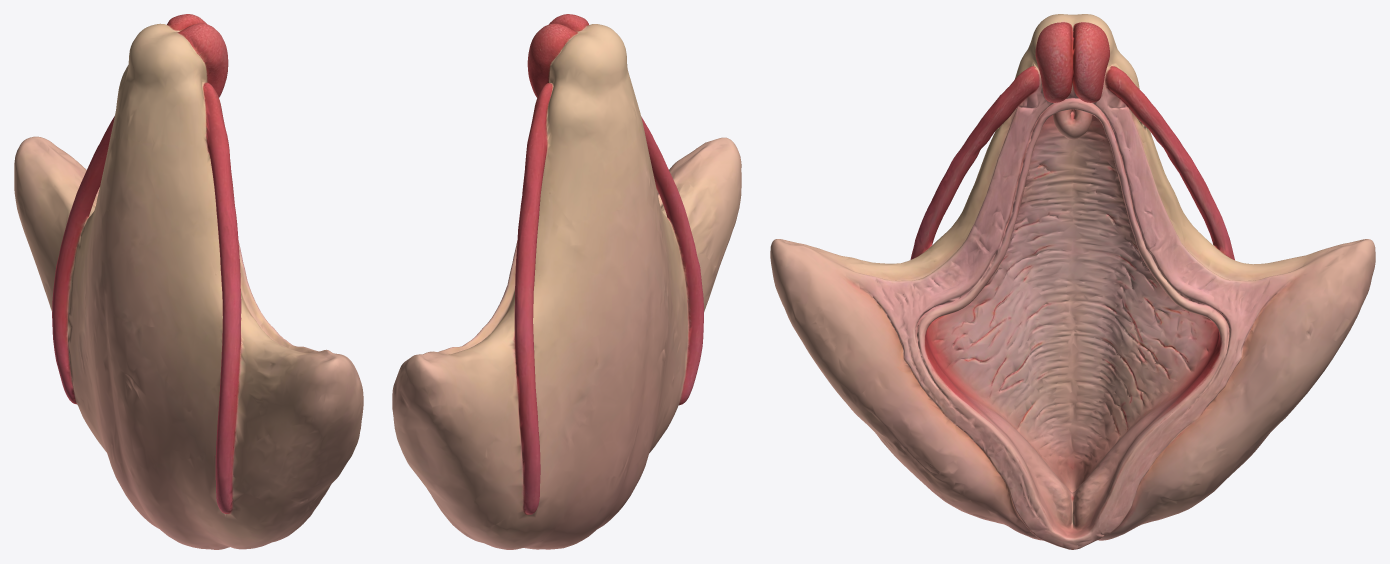
The model's file is vagina.glb.
3 views of the same model, side by side, from view 1: azimuth 30°, elevation 25°; view 2: azimuth 150°, elevation 25°; view 3: azimuth 270°, elevation 25° (orthographic). The views are drawn at different scales.
Visible parts, largest first — view 1: tripo_node_b2c6d1b5-1f37-4252-b54a-70e742d07a9e; view 2: tripo_node_b2c6d1b5-1f37-4252-b54a-70e742d07a9e; view 3: tripo_node_b2c6d1b5-1f37-4252-b54a-70e742d07a9e.
Part boxes in pixels (left/top/right/bottom): tripo_node_b2c6d1b5-1f37-4252-b54a-70e742d07a9e: left=14, top=14, right=363, bottom=549; tripo_node_b2c6d1b5-1f37-4252-b54a-70e742d07a9e: left=392, top=14, right=741, bottom=549; tripo_node_b2c6d1b5-1f37-4252-b54a-70e742d07a9e: left=770, top=14, right=1375, bottom=549.
Size of the model in its own units: 0.2866 by 0.9189 by 0.9999.
Materials: 1 (1 with a texture image).
